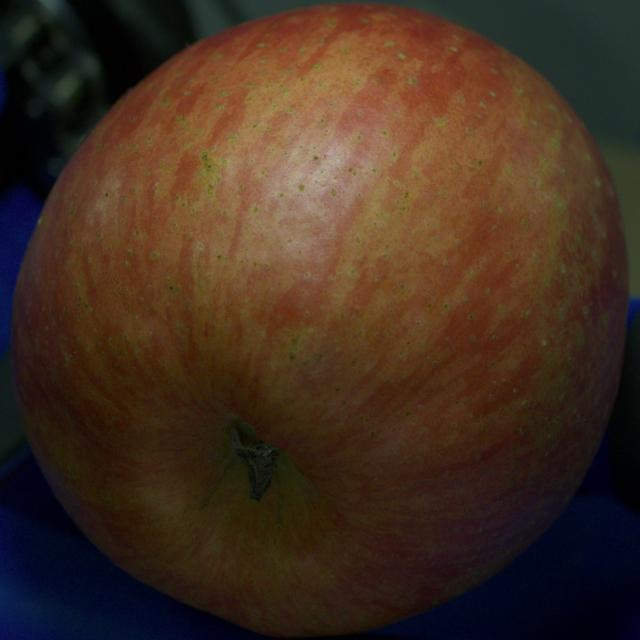apple: (11, 4, 628, 636)
